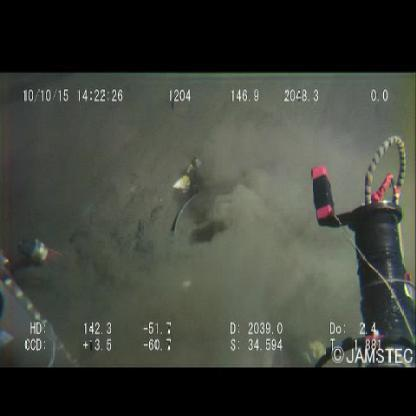Rác: (172, 158, 202, 236)
